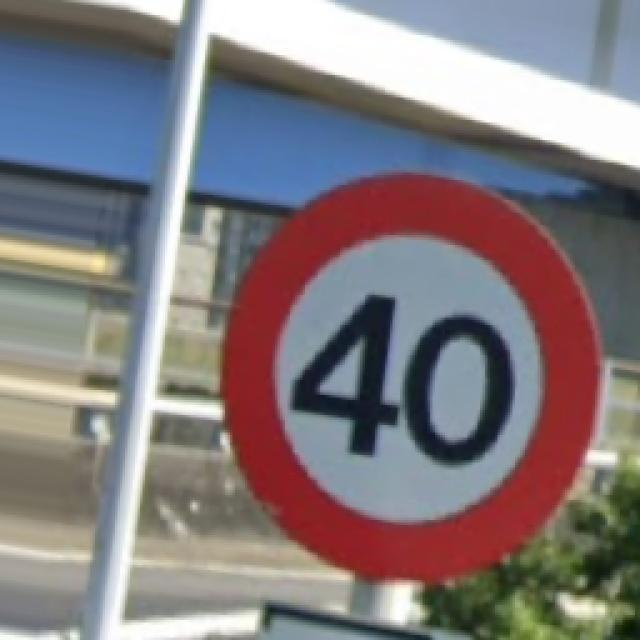Speed Limit -40-: (225, 175, 598, 580)
